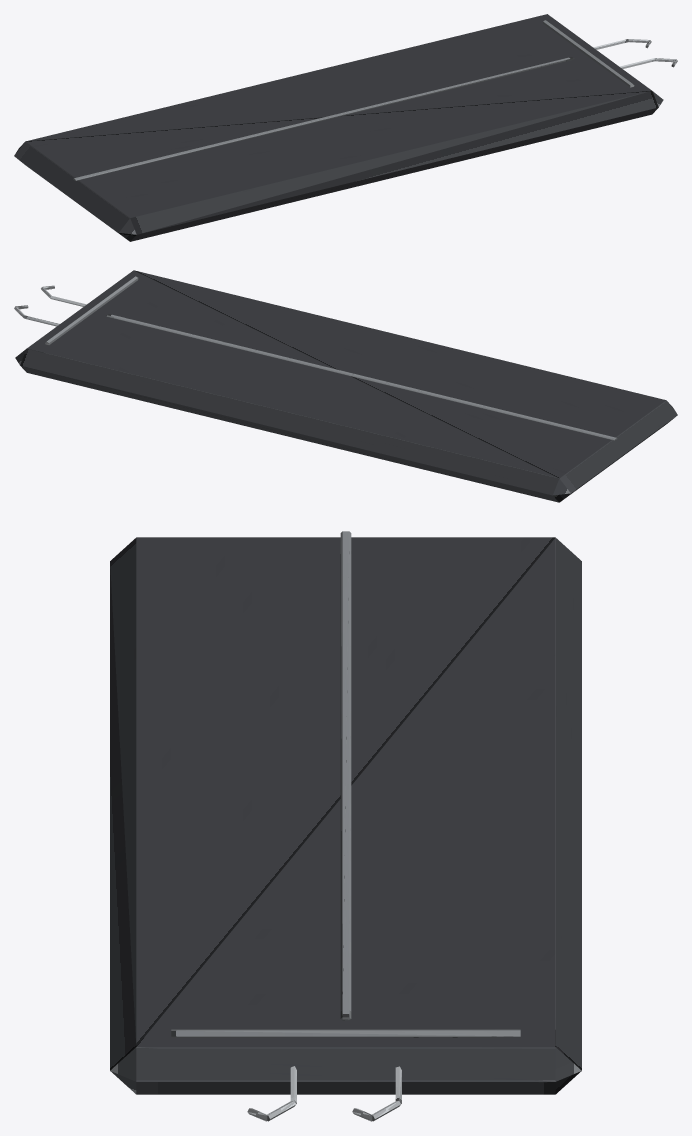
The model's file is outfit_storage.glb.
The picture shows the model from 3 angles, top to bottom: view 1: azimuth 30°, elevation 25°; view 2: azimuth 150°, elevation 25°; view 3: azimuth 270°, elevation 25°; orthographic projection. The views are drawn at different scales.
Parts seen in each view (by area): view 1: block_bag, block_zip, block_bar; view 2: block_bag, block_zip, block_bar; view 3: block_bag, block_zip, block_bar.
Boxes of the visible parts, bbox=[...] form: block_bag: bbox=[14, 14, 663, 241]; block_zip: bbox=[73, 57, 573, 180]; block_bar: bbox=[543, 20, 634, 87]; block_bag: bbox=[15, 270, 677, 502]; block_zip: bbox=[106, 314, 617, 440]; block_bar: bbox=[45, 276, 138, 344]; block_bag: bbox=[110, 537, 581, 1094]; block_zip: bbox=[340, 531, 351, 1020]; block_bar: bbox=[171, 1029, 520, 1037].
Bounding box in the file's own units: 1.56 × 0.0677 × 0.54.
2 materials, 2 textured.
